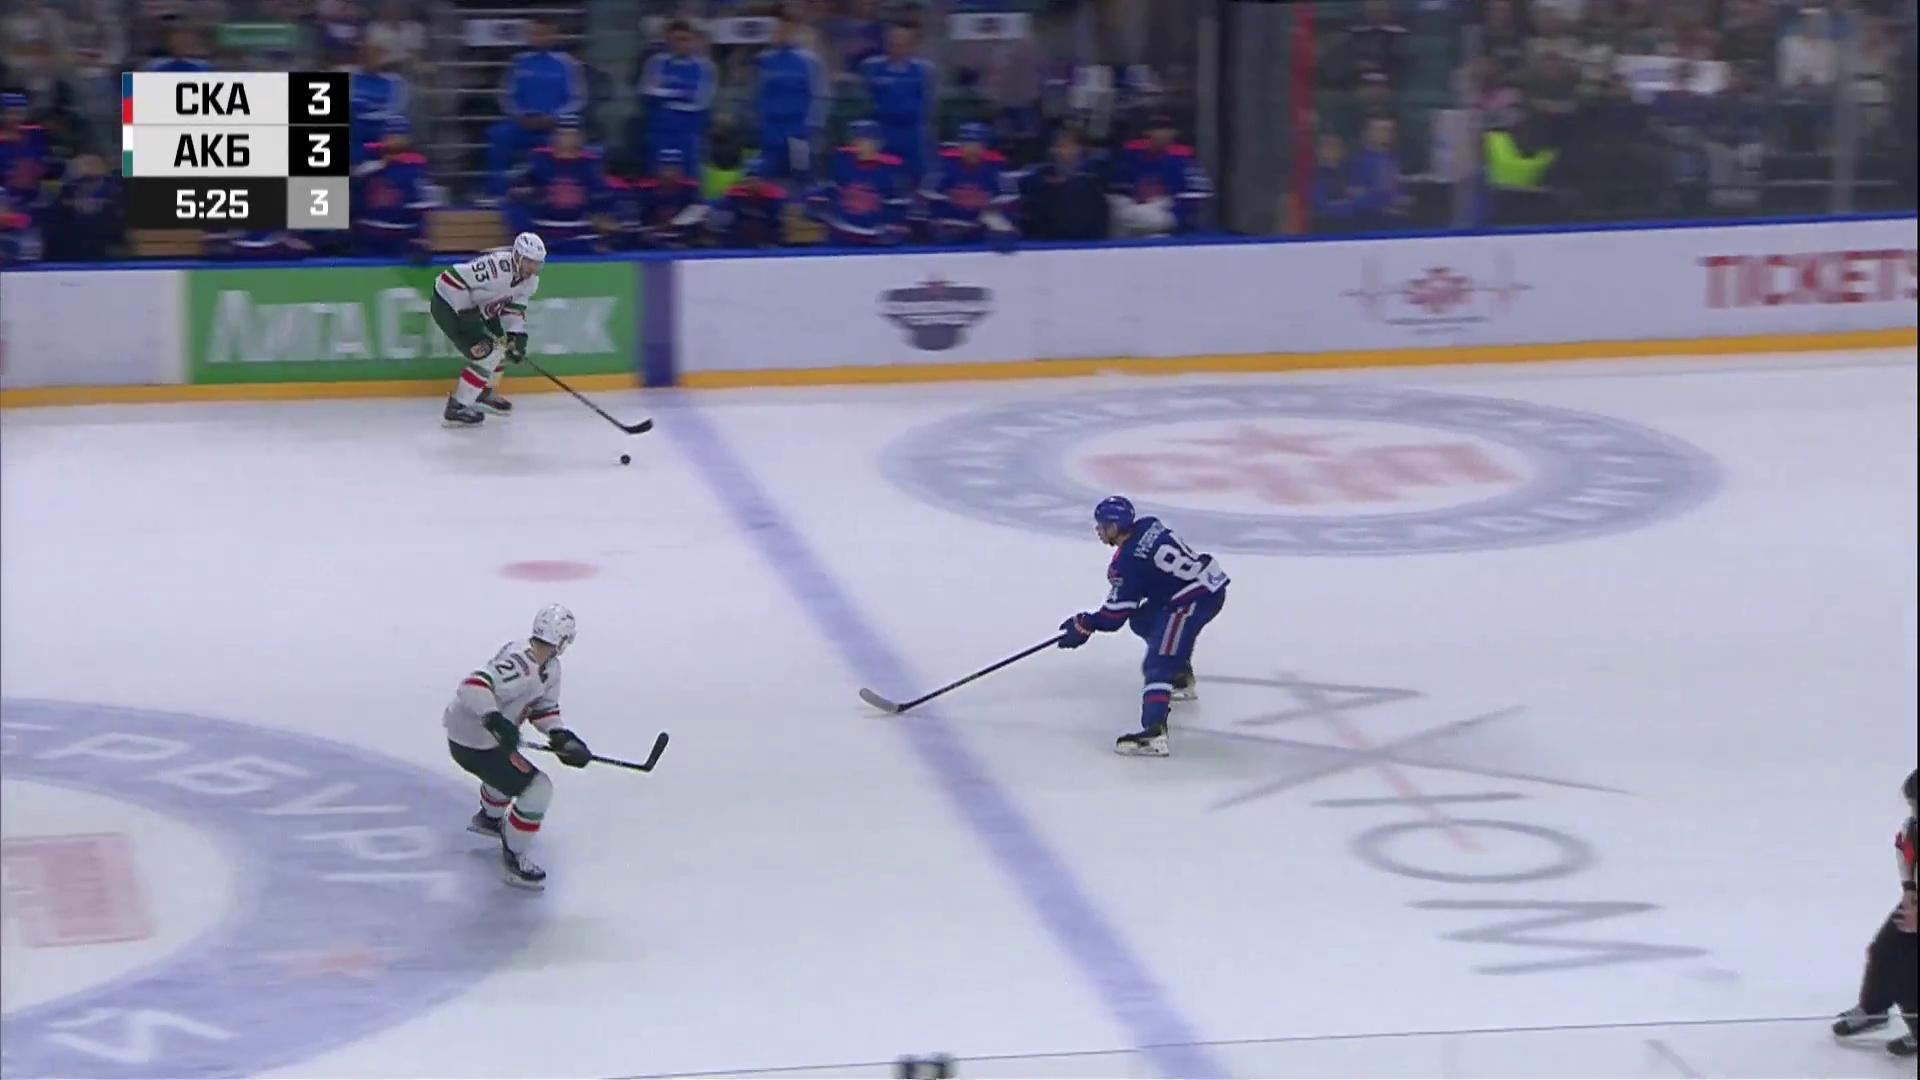ball: (620, 455, 633, 465)
